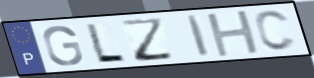C: (252, 9, 299, 53)
G: (41, 24, 85, 67)
H: (204, 9, 263, 59)
I: (185, 13, 213, 59)
L: (84, 22, 129, 63)
Z: (119, 16, 177, 63)
